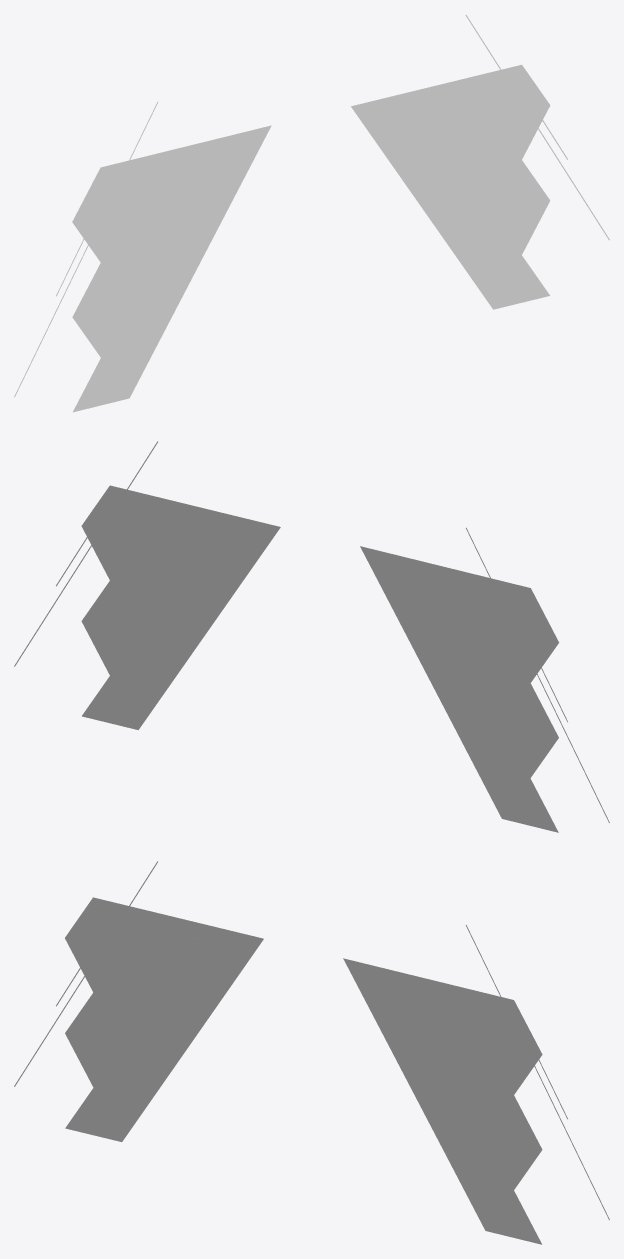
File: Exit.fbx
3 renders of one model, top to bottom at view 1: azimuth 30°, elevation 25°; view 2: azimuth 150°, elevation 25°; view 3: azimuth 330°, elevation 25°, orthographic.
Parts seen in each view (by area): view 1: r02, r01; view 2: r02, r01, kaliepingmu (×2); view 3: r01, r02.
Boxes of the visible parts, left/top/right/bottom form: r02: left=72, top=125, right=271, bottom=412; r01: left=351, top=64, right=550, bottom=309; r02: left=360, top=546, right=559, bottom=832; r01: left=81, top=485, right=280, bottom=730; kaliepingmu (×2): left=14, top=441, right=609, bottom=822; r01: left=343, top=958, right=542, bottom=1244; r02: left=65, top=897, right=263, bottom=1141.
Size of the model in its own units: 1.21 by 0.5784 by 0.014.
